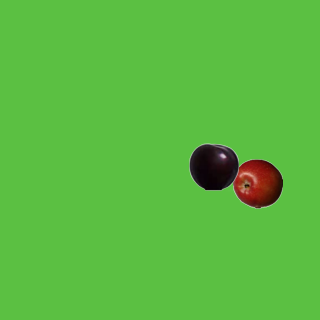Apple Braeburn: (232, 158, 282, 208)
Cherry Wax Black: (188, 141, 238, 191)
